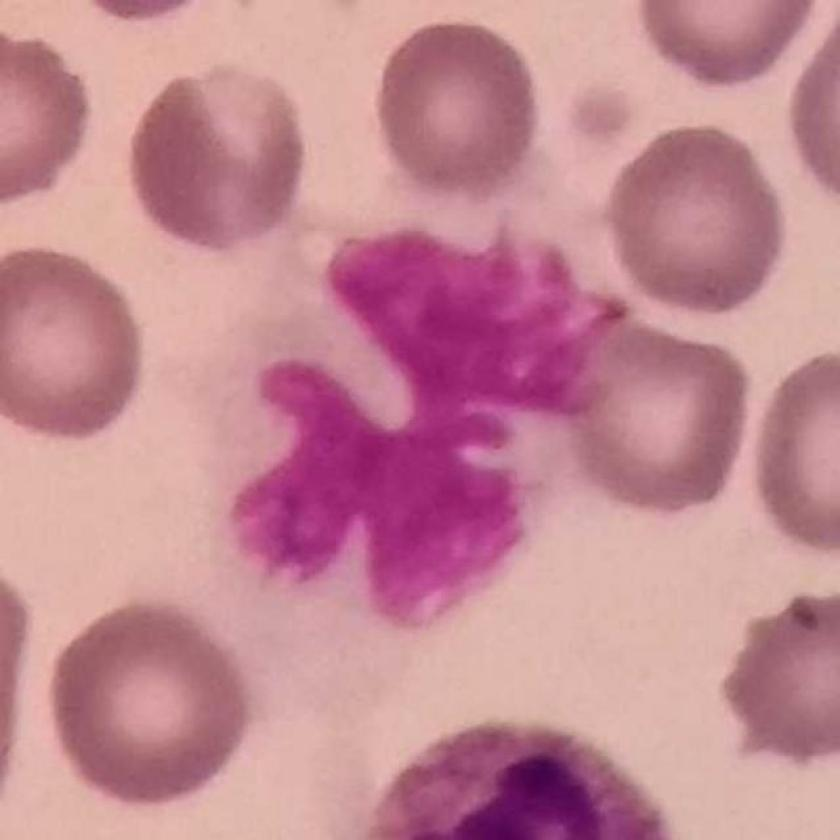monocyte: (185, 153, 619, 665)
